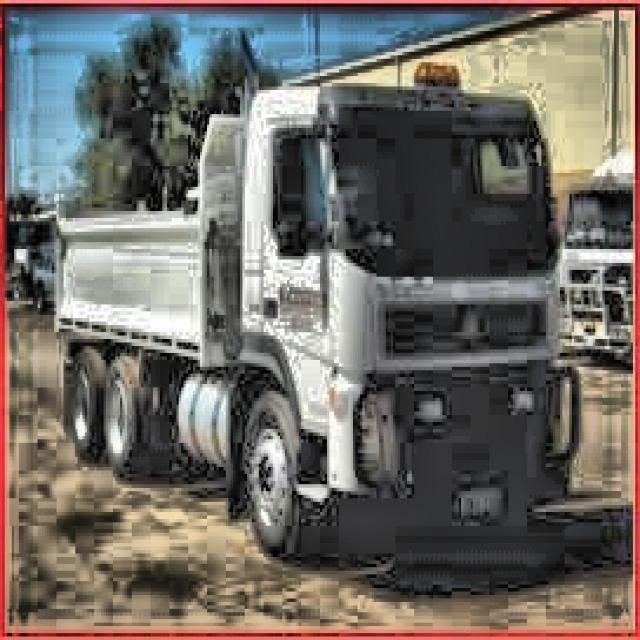dump_truck: (41, 76, 585, 570)
